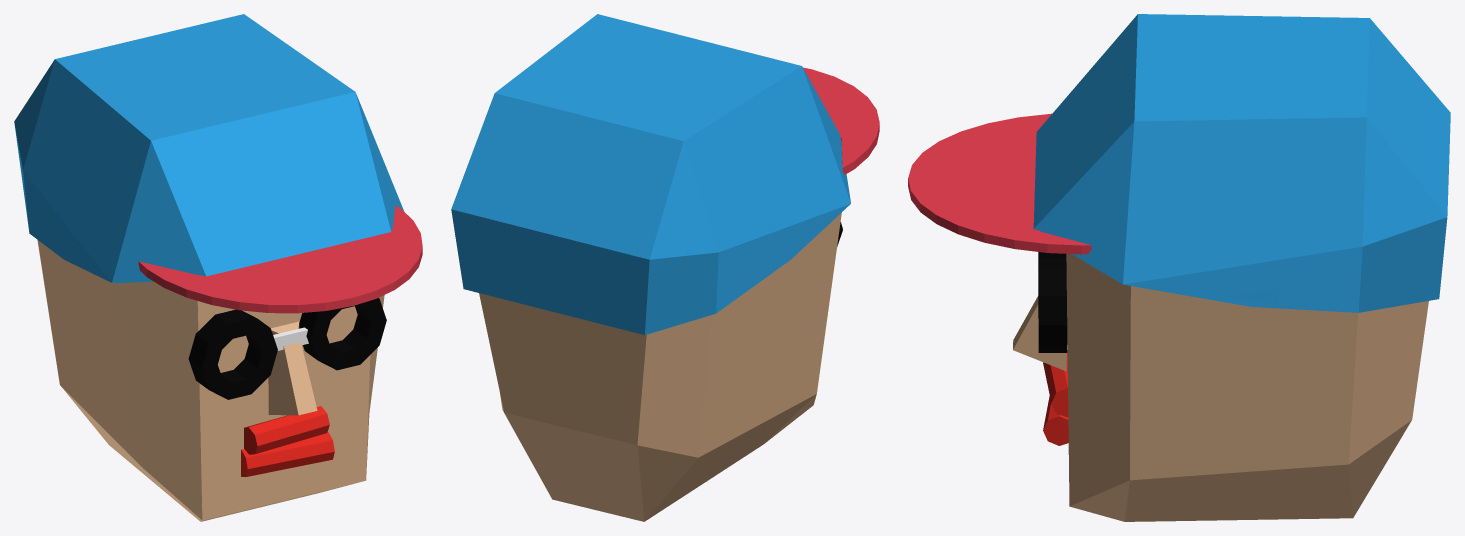
3 renders of one model, left to right at view 1: azimuth 30°, elevation 25°; view 2: azimuth 150°, elevation 25°; view 3: azimuth 270°, elevation 25°, orthographic. The views are drawn at different scales.
Parts seen in each view (by area): view 1: Cap, Head, Glasses, Nose, Lip.Top, Lip.Bottom, Glass Frame; view 2: Cap, Head; view 3: Cap, Head, Glasses, Nose, Lip.Top, Lip.Bottom.
Part boxes in pixels (bbox=[...]): Cap: bbox=[14, 14, 422, 313]; Head: bbox=[37, 240, 384, 521]; Glasses: bbox=[188, 298, 386, 399]; Nose: bbox=[268, 321, 317, 415]; Lip.Top: bbox=[244, 406, 329, 454]; Lip.Bottom: bbox=[241, 432, 334, 476]; Glass Frame: bbox=[273, 327, 308, 350]; Cap: bbox=[451, 14, 879, 334]; Head: bbox=[479, 212, 841, 521]; Cap: bbox=[908, 14, 1450, 312]; Head: bbox=[1066, 254, 1428, 521]; Glasses: bbox=[1038, 252, 1067, 352]; Nose: bbox=[1013, 296, 1066, 371]; Lip.Top: bbox=[1043, 350, 1068, 417]; Lip.Bottom: bbox=[1043, 396, 1068, 445].
Bounding box in the file's own units: 0.4192 × 0.5393 × 0.62.
